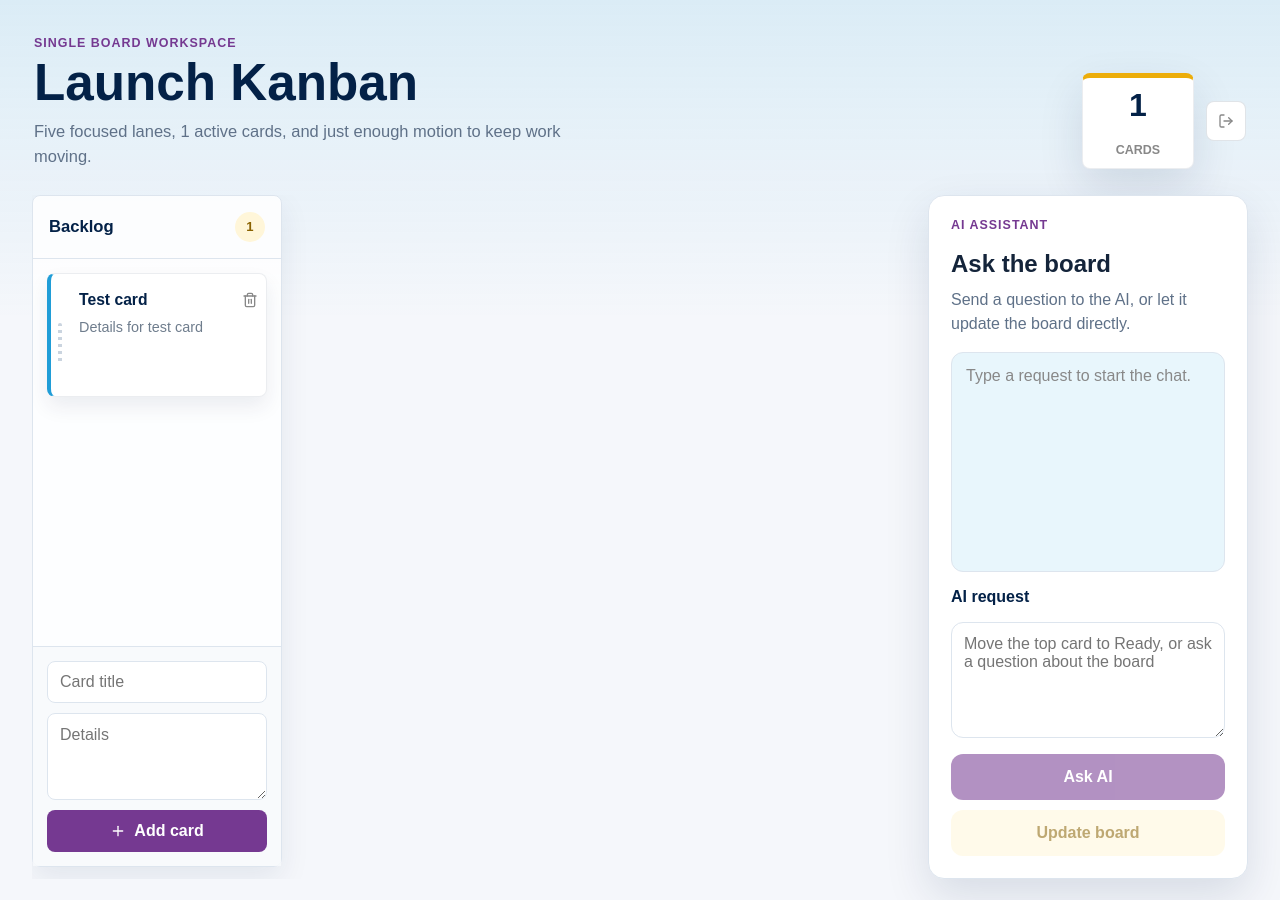
KanbanBoard API integration › uses AI chat to send a request and display the response
Expected: the heading "Test card" is shown, [79,291,148,308]
Replace the text in the text box labelled "AI request" with "How should I prioritize work?" at (1088, 680), box [951,622,1225,738]
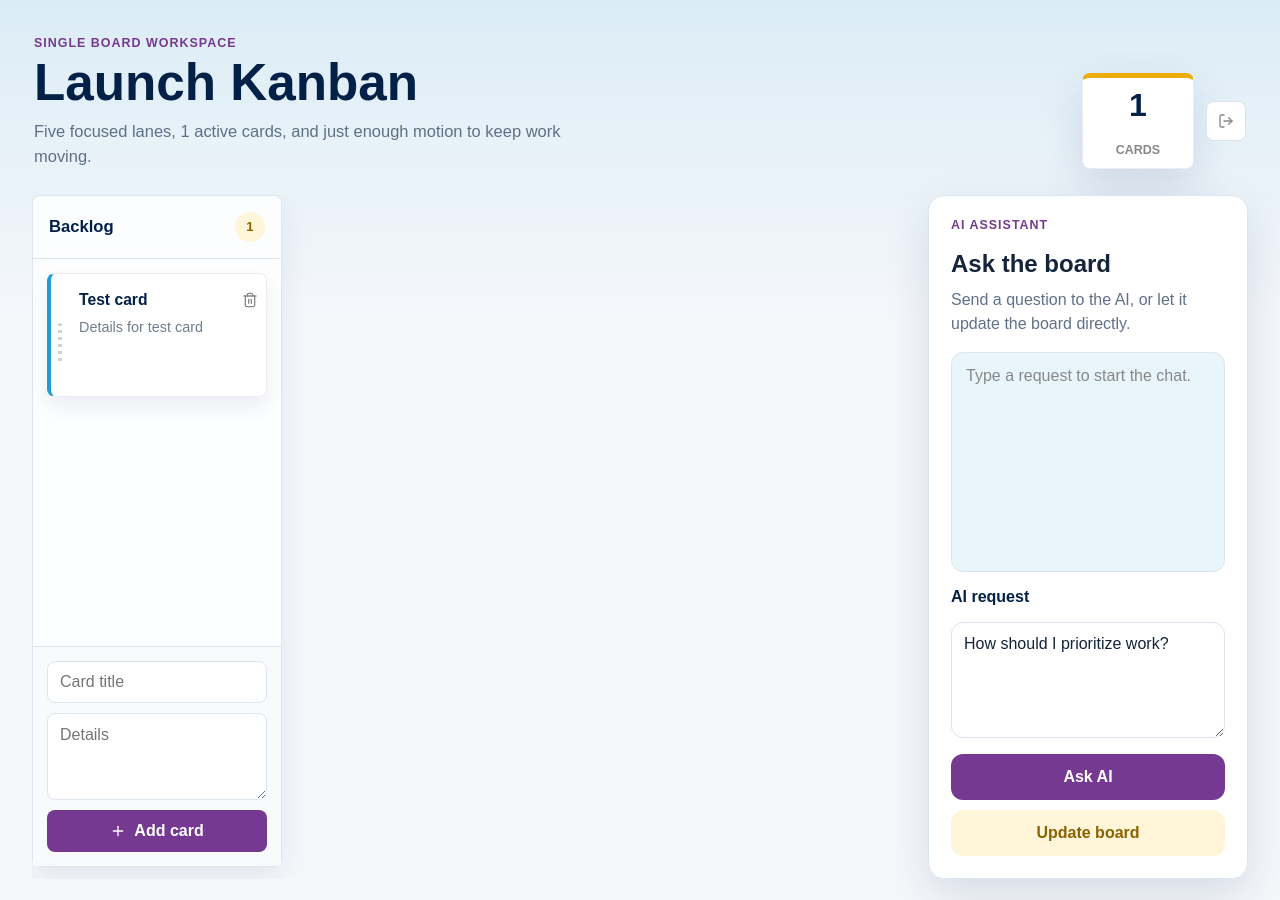
Click the button "Ask AI" at (1088, 777), box [951,754,1225,800]
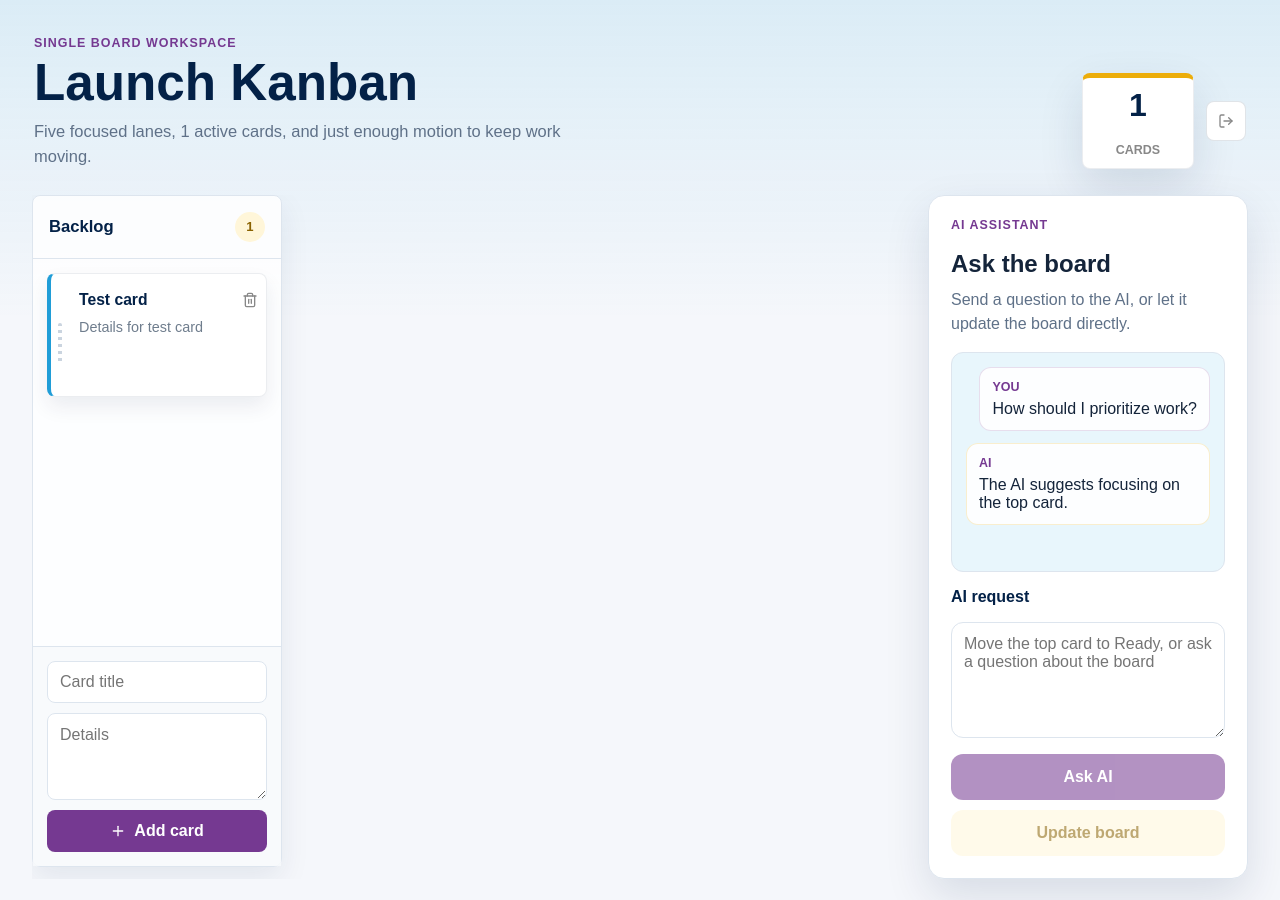
Expected: the text "The AI suggests focusing on the top card." is shown, [979,476,1197,512]
